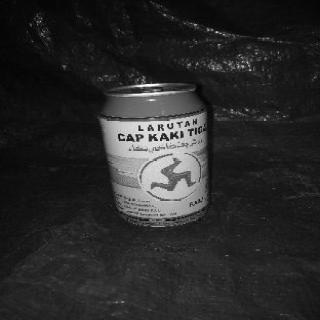alumunium_can: (96, 82, 212, 230)
